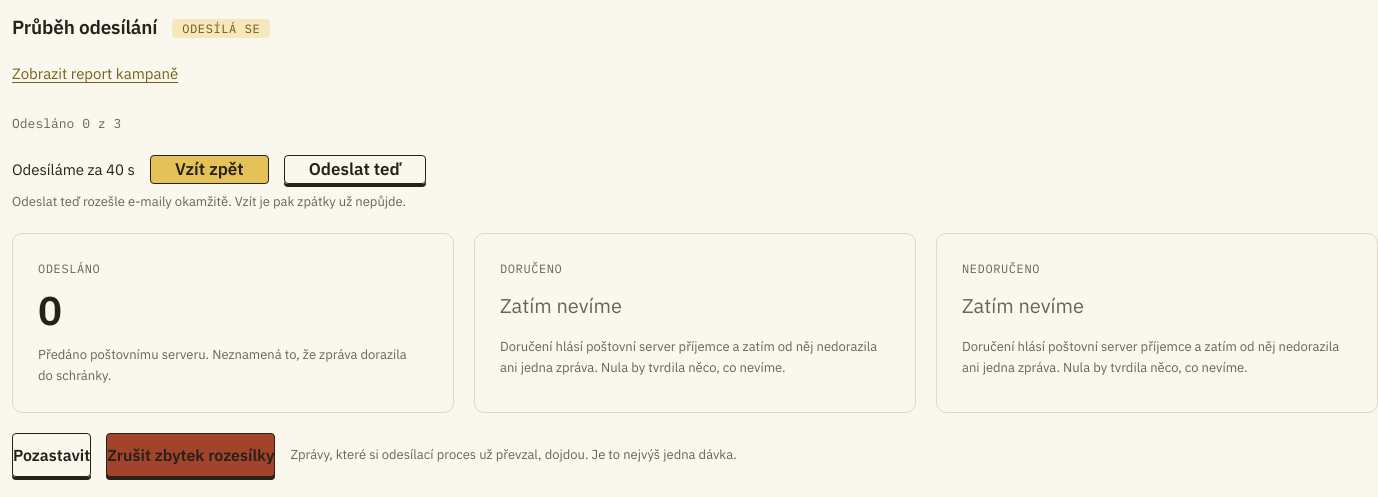
Test case: Odeslat teď › hned po stisku je vidět, že se spouští, ne dál běžící odpočet
This screenshot has width=1378, height=497.
Click the button with test id "send-now".
click(355, 170)  # box left=284, top=155, right=426, bottom=184
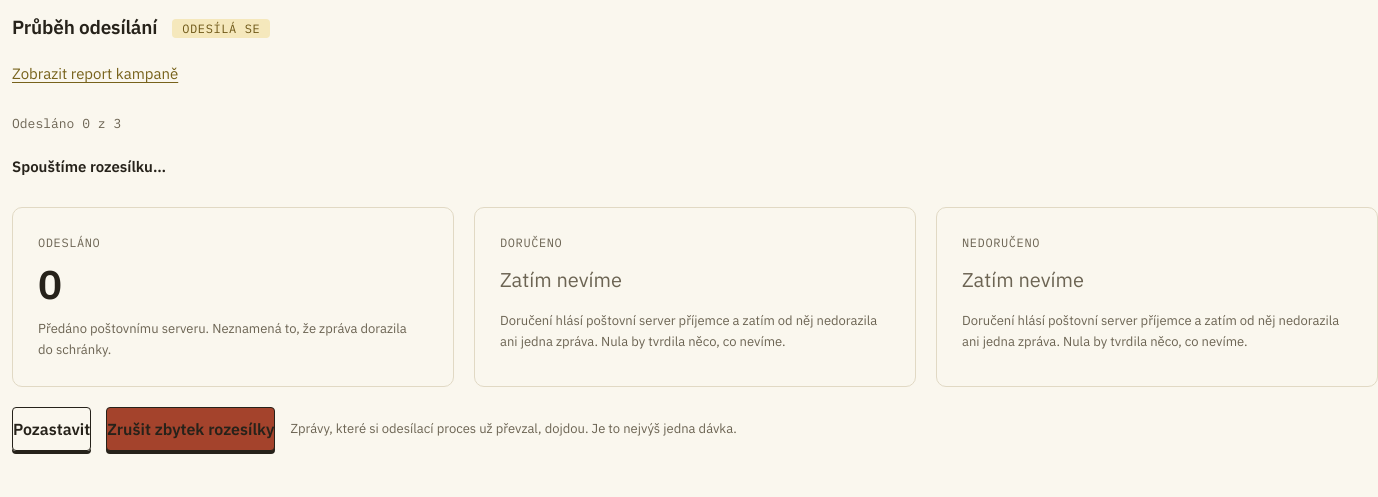
Expected: the text "Spouštíme rozesílku…" is shown, left=12, top=157, right=166, bottom=176
Expected: the text "Odesíláme za" is gone
